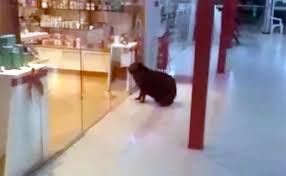capivara: (128, 61, 177, 108)
